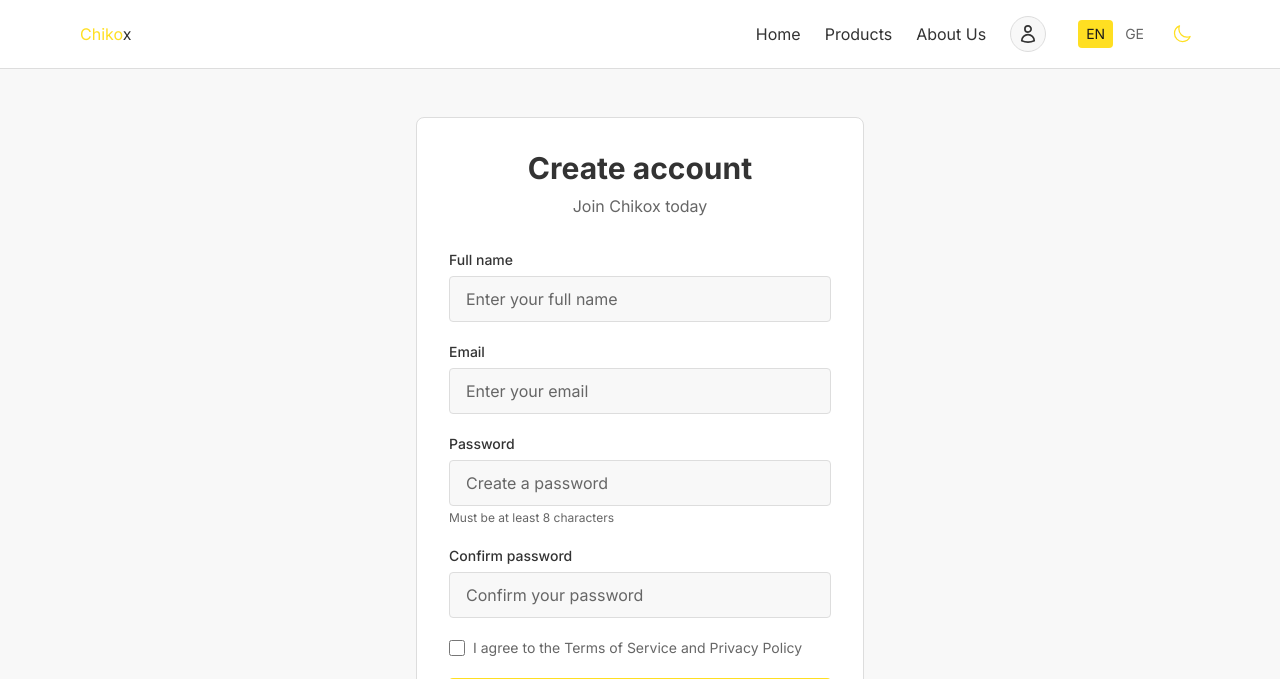
Test: RegisterPage › shows error when password is too short
Type "Test User" into the field labelled "Full name" at (640, 299), box [449,276,831,322]
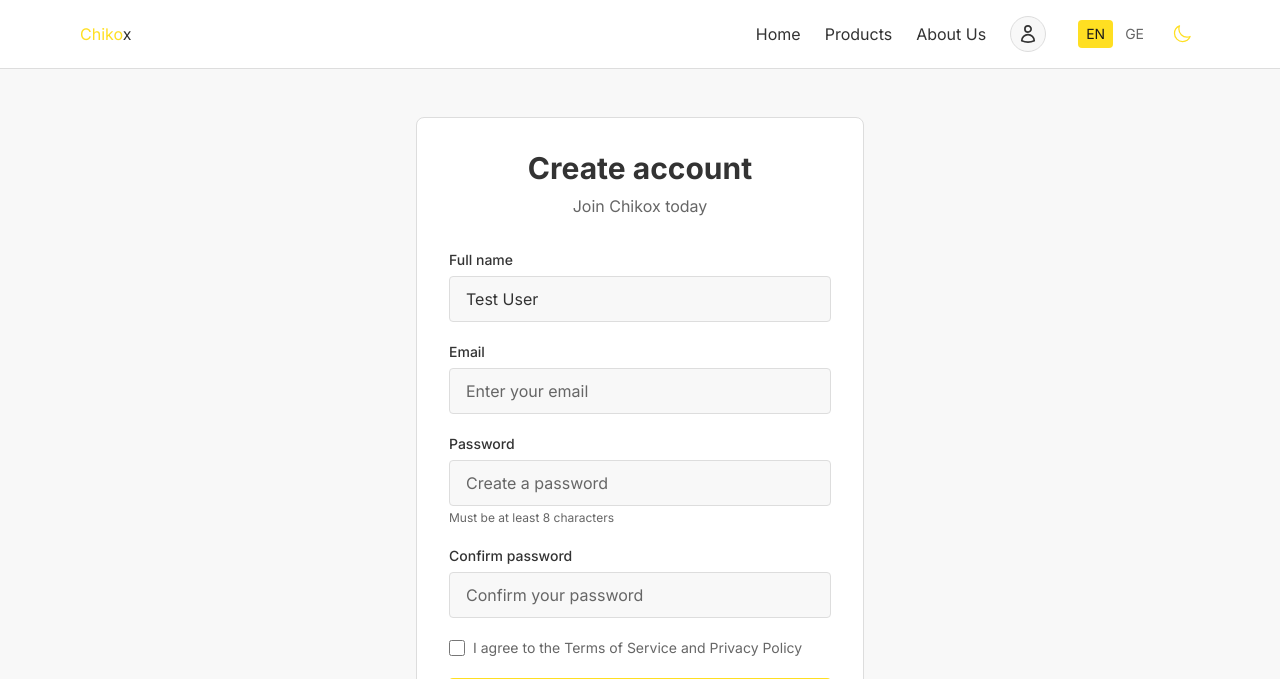
Type "test@example.com" into the field labelled "Email" at (640, 391), box [449,368,831,414]
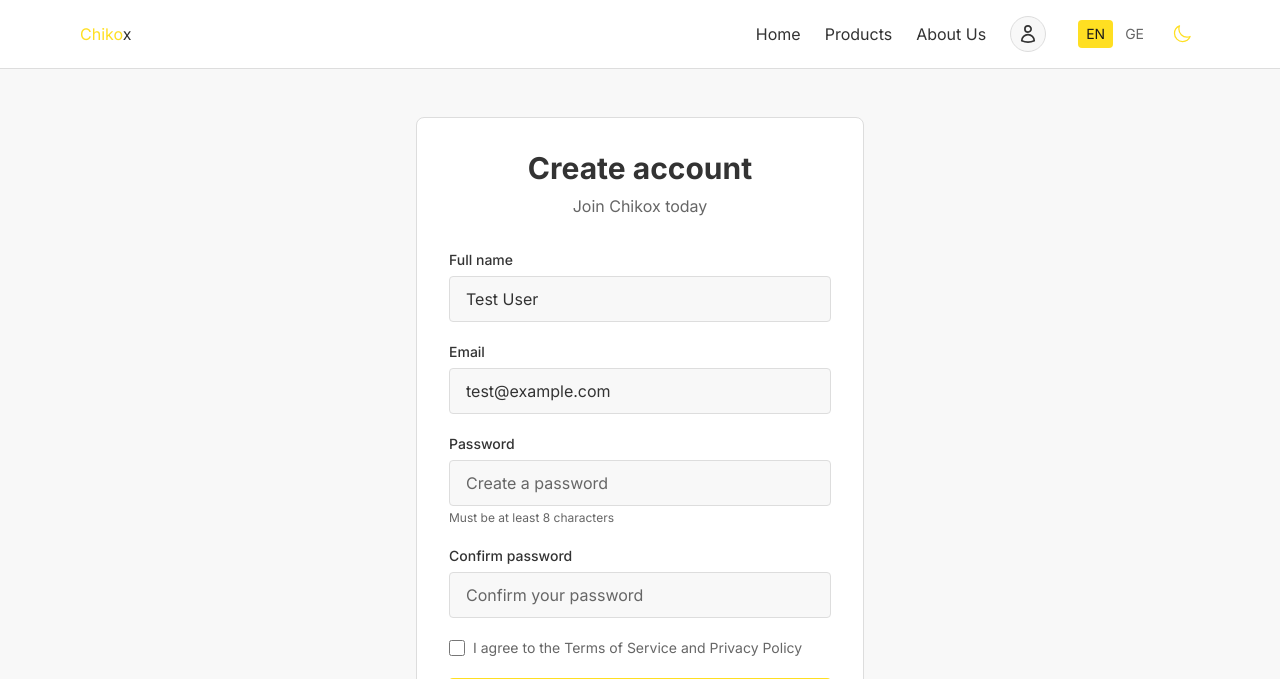
Type "short" into the password field labelled "Password" at (640, 483), box [449,460,831,506]
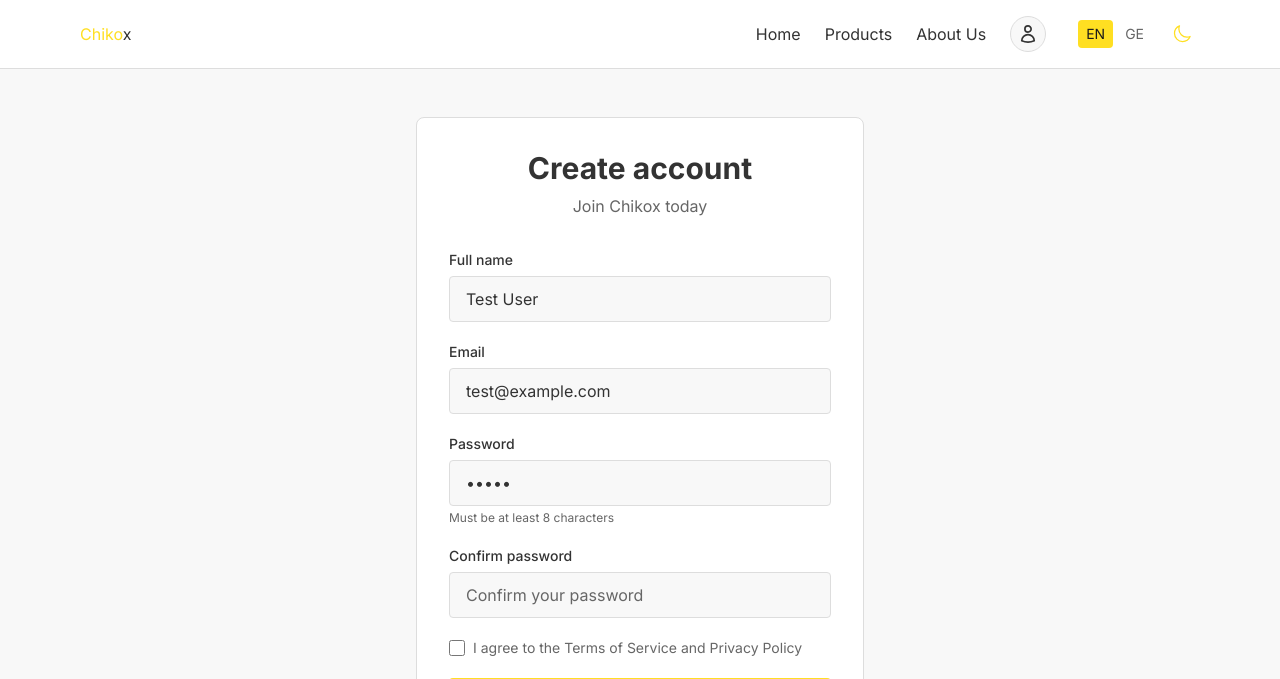
Type "short" into the password field labelled "Confirm password" at (640, 595), box [449,572,831,618]
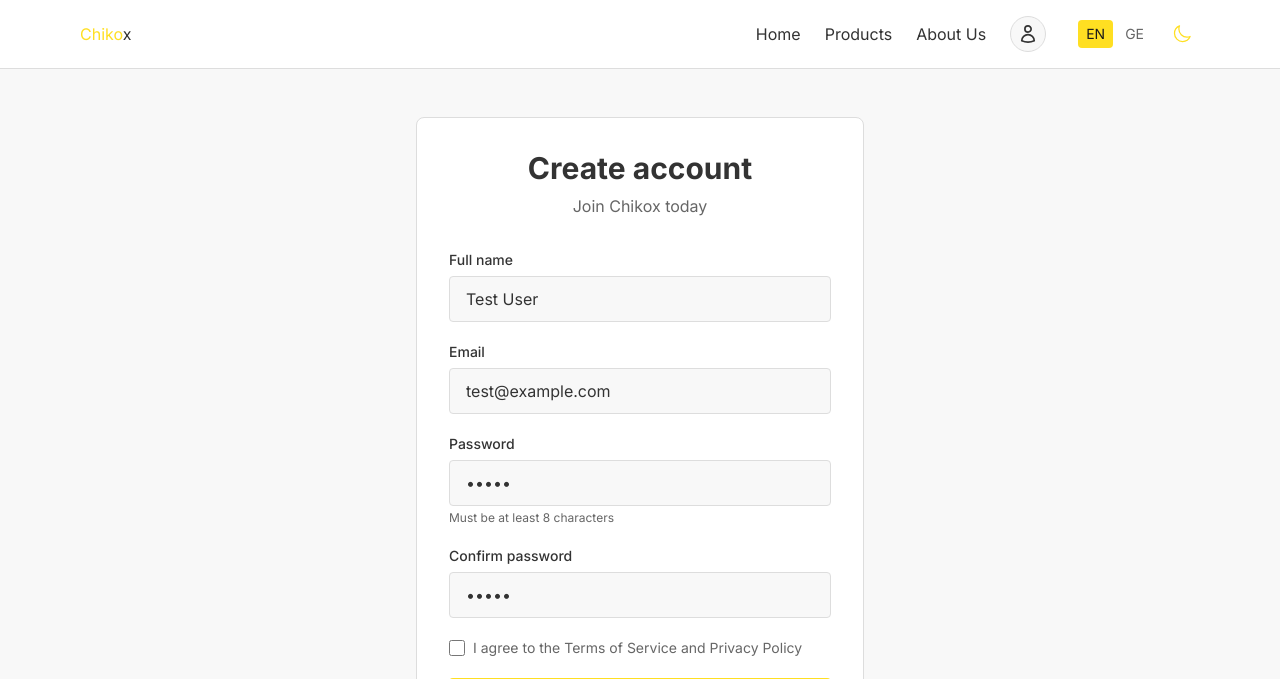
Click the checkbox at (457, 648), box [449,640,465,656]
(page scrolled)
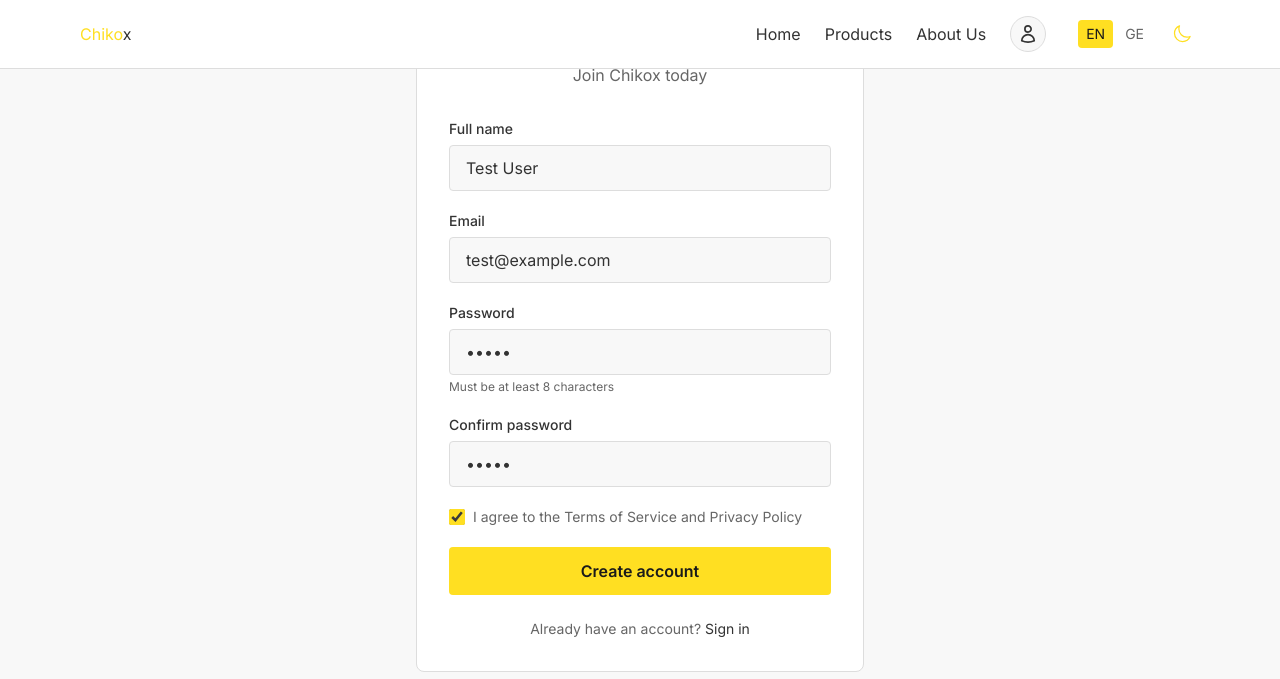
Click the button "Create account" at (640, 571), box [449,547,831,595]
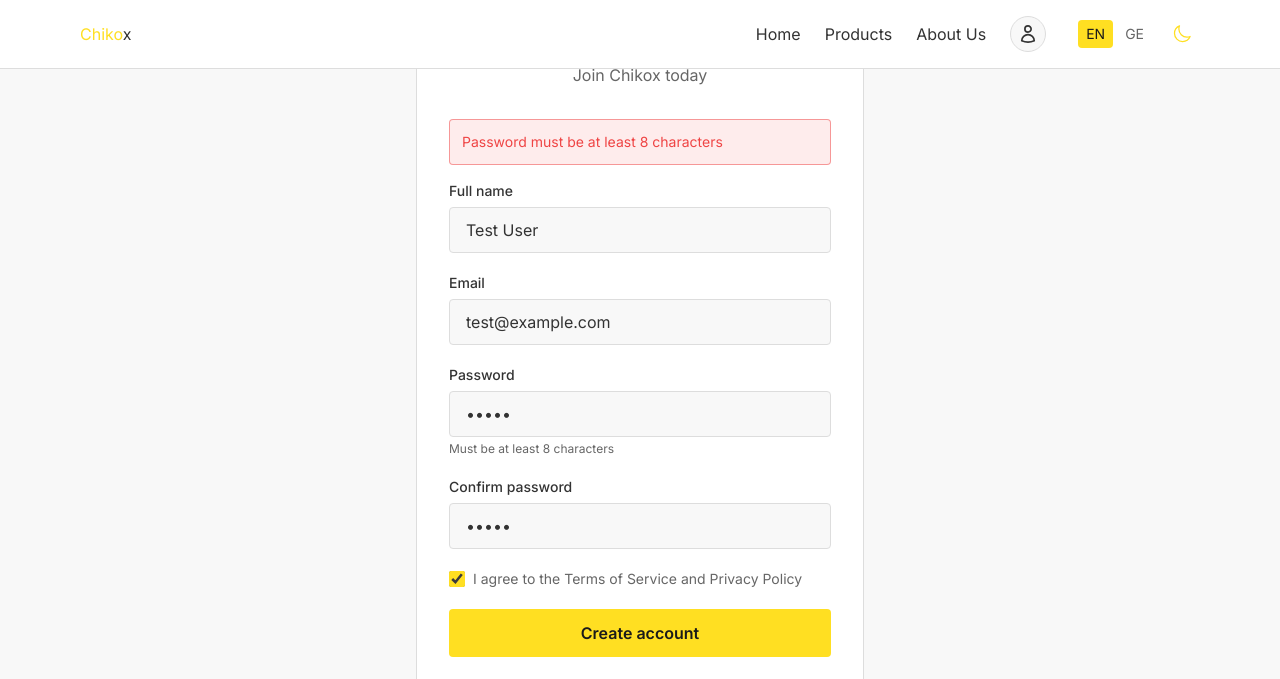
Check: the text "Password must be at least 8 characters" is shown, box [462,133,723,150]
